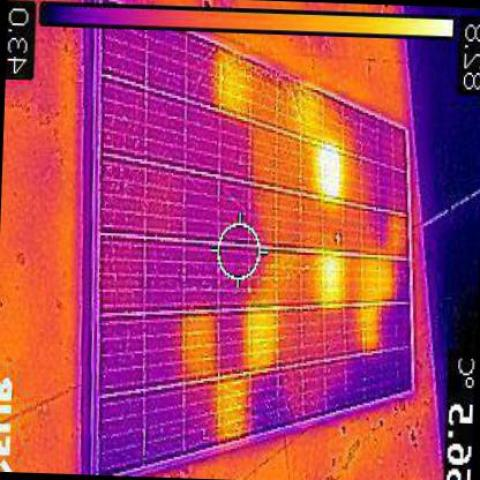fault: (319, 146, 344, 192), (316, 254, 343, 285)
